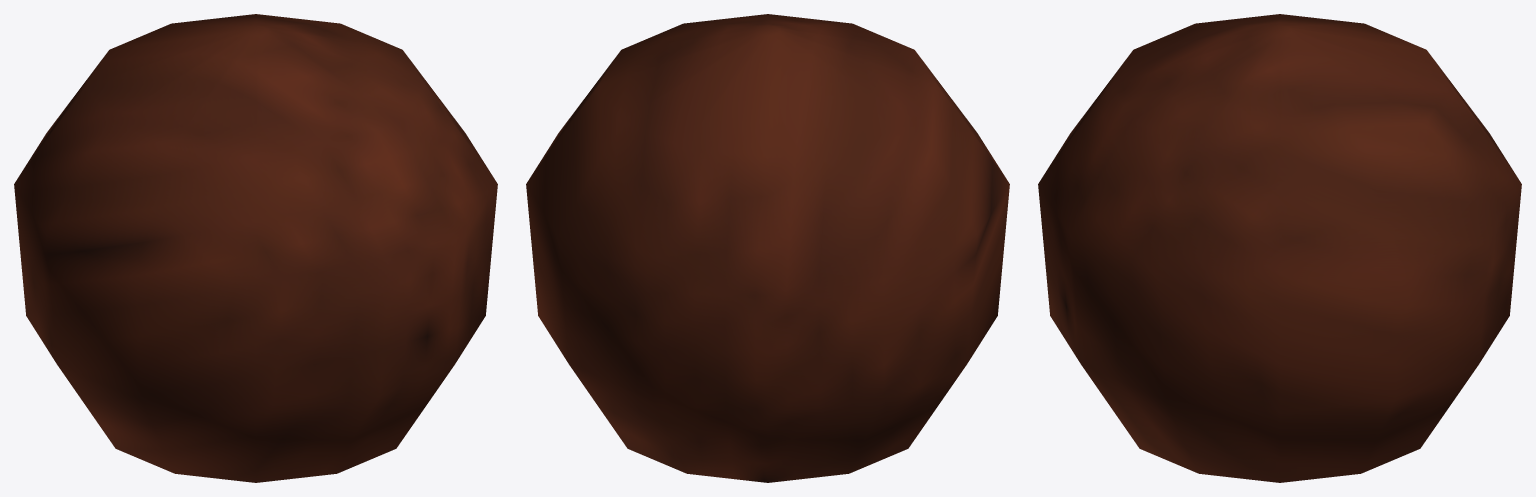
The model's file is fx_impact.glb.
The picture shows the model from 3 angles, left to right: view 1: azimuth 30°, elevation 25°; view 2: azimuth 150°, elevation 25°; view 3: azimuth 270°, elevation 25°; orthographic projection.
Visible parts, largest first — view 1: fx_impact.001; view 2: fx_impact.001; view 3: fx_impact.001.
Boxes of the visible parts, box(x1,y1,x2,y2) form: fx_impact.001: box(14, 14, 497, 482); fx_impact.001: box(526, 14, 1009, 482); fx_impact.001: box(1038, 14, 1521, 482).
Bounding box in the file's own units: 0.16 × 0.16 × 0.16.
1 material, 1 textured.
